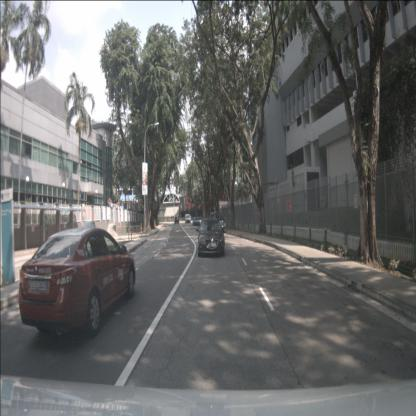vehicle-car: (19, 229, 135, 339), (198, 219, 225, 256), (192, 217, 200, 226), (185, 214, 191, 224), (174, 216, 180, 224)
vehicle-truck: (207, 213, 226, 233)
